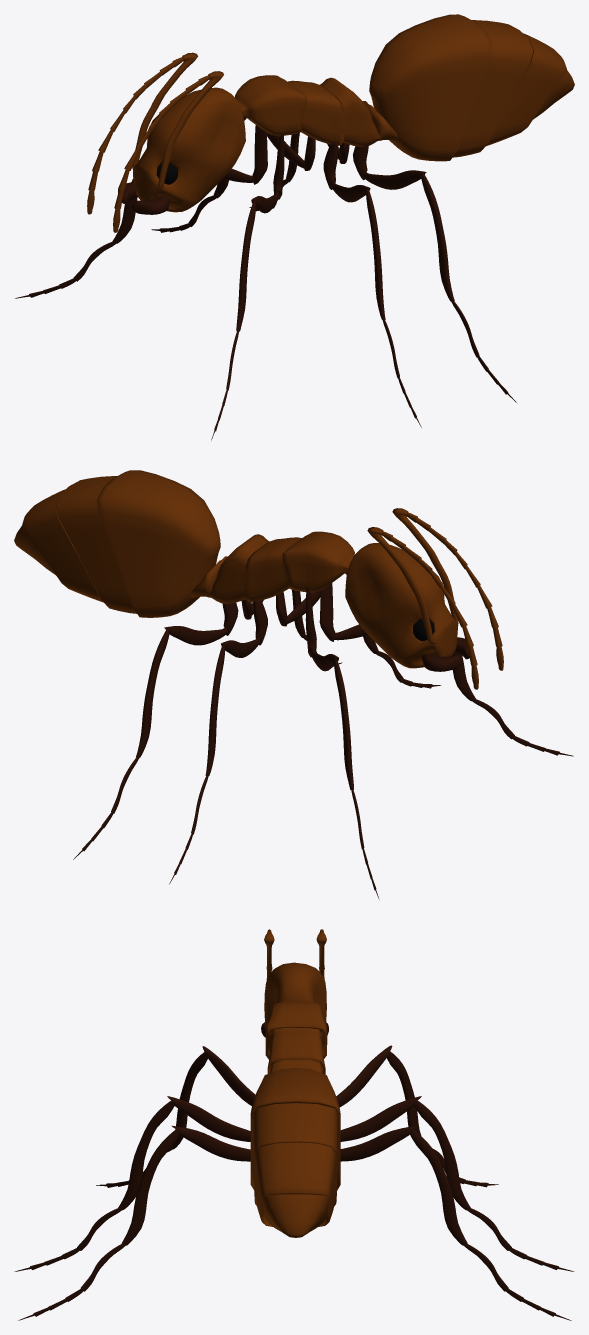
Rendered from ant.fbx.
3 views of the same model, one above another, from view 1: azimuth 30°, elevation 25°; view 2: azimuth 150°, elevation 25°; view 3: azimuth 270°, elevation 25° (orthographic). The views are drawn at different scales.
Parts seen in each view (by area): view 1: pCube18; view 2: pCube18; view 3: pCube18.
Boxes of the visible parts, x1,y1,x2,y2 form: pCube18: [15, 14, 574, 440]; pCube18: [14, 470, 573, 899]; pCube18: [14, 929, 574, 1320].
Bounding box in the file's own units: 4.7 × 2.71 × 4.67.
